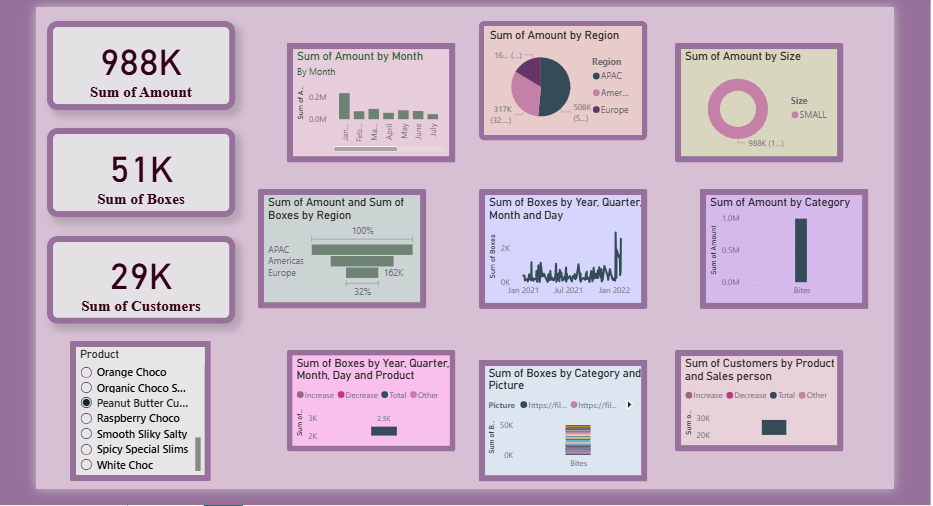

The dashboard page shown, as its layout file describes it:
{"tool":"powerbi","page":{"name":"Page 1","canvas":[1280,720],"ordinal":0},"visuals":[{"type":"card","fields":{"Values":["Sum(sales.Amount)"]},"box":[16.4,20.9,280.6,132.8],"z":0},{"type":"card","fields":{"Values":["Sum(sales.Boxes)"]},"box":[16.4,180.6,280.6,132.8],"z":1000},{"type":"card","fields":{"Values":["Sum(sales.Customers)"]},"box":[16.4,341.8,280.6,131.3],"z":2000},{"type":"columnChart","fields":{"Category":["sales.Date.Variation.Date Hierarchy.Year","sales.Date.Variation.Date Hierarchy.Quarter","sales.Date.Variation.Date Hierarchy.Month","sales.Date.Variation.Date Hierarchy.Day"],"Y":["Sum(sales.Amount)"]},"box":[374.6,53.7,250.7,177.6],"z":3000},{"type":"pieChart","fields":{"Category":["locations.Region"],"Y":["Sum(sales.Amount)"]},"box":[661.2,20.9,250.7,177.6],"z":4000},{"type":"donutChart","fields":{"Y":["Sum(sales.Amount)"],"Series":["products.Size"]},"box":[953.7,53.7,250.7,177.6],"z":5000},{"type":"funnel","fields":{"Y":["Sum(sales.Amount)"],"Category":["locations.Region"]},"box":[331.3,271.6,250.7,177.6],"z":6000},{"type":"lineChart","fields":{"Category":["sales.Date.Variation.Date Hierarchy.Year","sales.Date.Variation.Date Hierarchy.Quarter","sales.Date.Variation.Date Hierarchy.Month","sales.Date.Variation.Date Hierarchy.Day"],"Y":["Sum(sales.Boxes)"]},"box":[661.2,271.6,250.7,179.1],"z":7000},{"type":"ribbonChart","fields":{"Y":["Sum(sales.Amount)"],"Category":["products.Category"]},"box":[991,271.6,250.7,179.1],"z":8000},{"type":"waterfallChart","fields":{"Category":["sales.Date.Variation.Date Hierarchy.Year","sales.Date.Variation.Date Hierarchy.Quarter","sales.Date.Variation.Date Hierarchy.Month","sales.Date.Variation.Date Hierarchy.Day"],"Breakdown":["products.Product"],"Y":["Sum(sales.Boxes)"]},"box":[374.6,511.9,250.7,150.7],"z":9000},{"type":"waterfallChart","fields":{"Y":["Sum(sales.Customers)"],"Category":["products.Product"],"Breakdown":["people.Sales person"]},"box":[953.7,511.9,250.7,150.7],"z":11000},{"type":"listSlicer","fields":{"Values":["products.Product"]},"box":[50.7,498.5,210.4,209],"z":12000},{"type":"lineStackedColumnComboChart","fields":{"Y":["Sum(sales.Boxes)"],"Category":["products.Category"],"Series":["people.Picture"]},"box":[661.2,526.9,250.7,180.6],"z":12001}]}

Visuals, with their boxes on the page's 1280x720 design canvas (x1, y1, x2, y2). These are canvas units, not pixel positions in the 933x506 screenshot, which may show the page scaled, cropped or inside an application window:
card - Sum(sales.Amount): crop(16, 21, 297, 154)
card - Sum(sales.Boxes): crop(16, 181, 297, 313)
card - Sum(sales.Customers): crop(16, 342, 297, 473)
columnChart - sales.Date.Variation.Date Hierarchy.Year x sales.Date.Variation.Date Hierarchy.Quarter: crop(375, 54, 625, 231)
pieChart - locations.Region x Sum(sales.Amount): crop(661, 21, 912, 198)
donutChart - Sum(sales.Amount) x products.Size: crop(954, 54, 1204, 231)
funnel - Sum(sales.Amount) x locations.Region: crop(331, 272, 582, 449)
lineChart - sales.Date.Variation.Date Hierarchy.Year x sales.Date.Variation.Date Hierarchy.Quarter: crop(661, 272, 912, 451)
ribbonChart - Sum(sales.Amount) x products.Category: crop(991, 272, 1242, 451)
waterfallChart - sales.Date.Variation.Date Hierarchy.Year x sales.Date.Variation.Date Hierarchy.Quarter: crop(375, 512, 625, 663)
waterfallChart - Sum(sales.Customers) x products.Product: crop(954, 512, 1204, 663)
listSlicer - products.Product: crop(51, 498, 261, 708)
lineStackedColumnComboChart - Sum(sales.Boxes) x products.Category: crop(661, 527, 912, 708)
